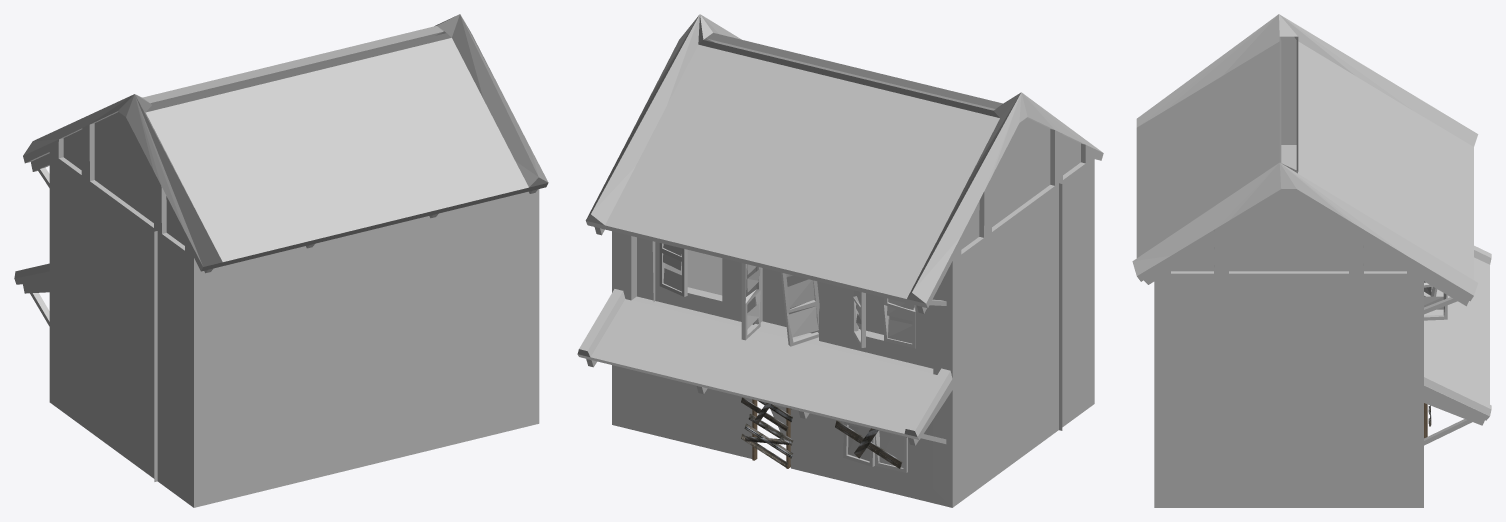
The model's file is Small_House_LOD1.FBX.
3 views of the same model, side by side, from view 1: azimuth 30°, elevation 25°; view 2: azimuth 150°, elevation 25°; view 3: azimuth 270°, elevation 25° (orthographic). The views are drawn at different scales.
Parts seen in each view (by area): view 1: L1Keo001; view 2: L1Keo001, L1Old_DoorPlank_003; view 3: L1Keo001.
Boxes of the visible parts, x1,y1,x2,y2 form: L1Keo001: (14, 14, 548, 507); L1Keo001: (577, 14, 1103, 507); L1Old_DoorPlank_003: (741, 397, 906, 468); L1Keo001: (1132, 14, 1491, 507).
Size of the model in its own units: 46.9 by 46.77 by 44.72.
